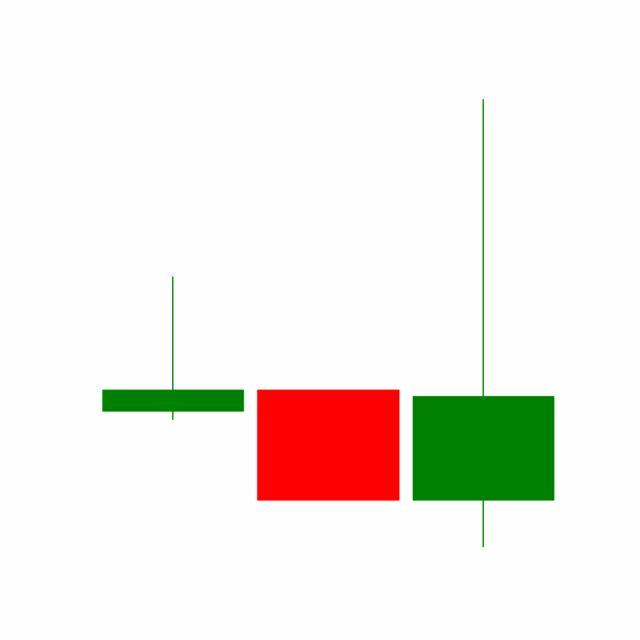Marubozu: (250, 389, 407, 503)
